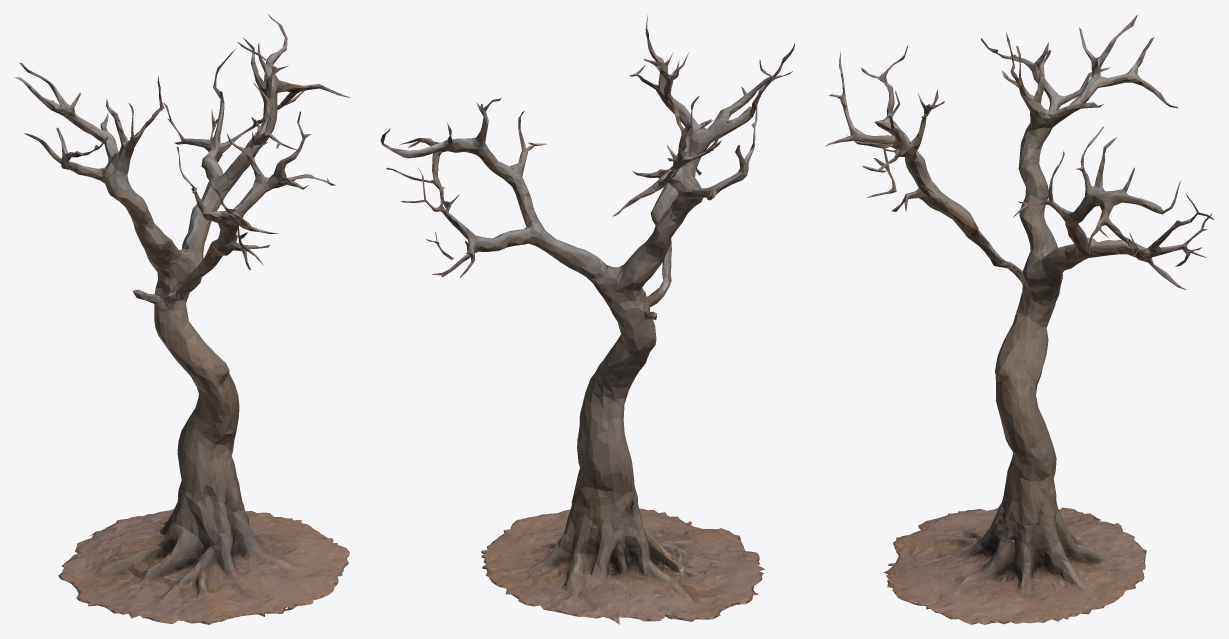
File: desert_dead_tree_1117210006_texture.fbx
3 renders of one model, left to right at view 1: azimuth 30°, elevation 25°; view 2: azimuth 150°, elevation 25°; view 3: azimuth 270°, elevation 25°, orthographic.
Parts seen in each view (by area): view 1: temp; view 2: temp; view 3: temp.
Part boxes in pixels (<box>): temp: <box>14,14,350,624</box>; temp: <box>380,15,795,624</box>; temp: <box>825,14,1214,624</box>.
Bounding box in the file's own units: 195 × 300 × 207.
Materials: 1 (1 with a texture image).
